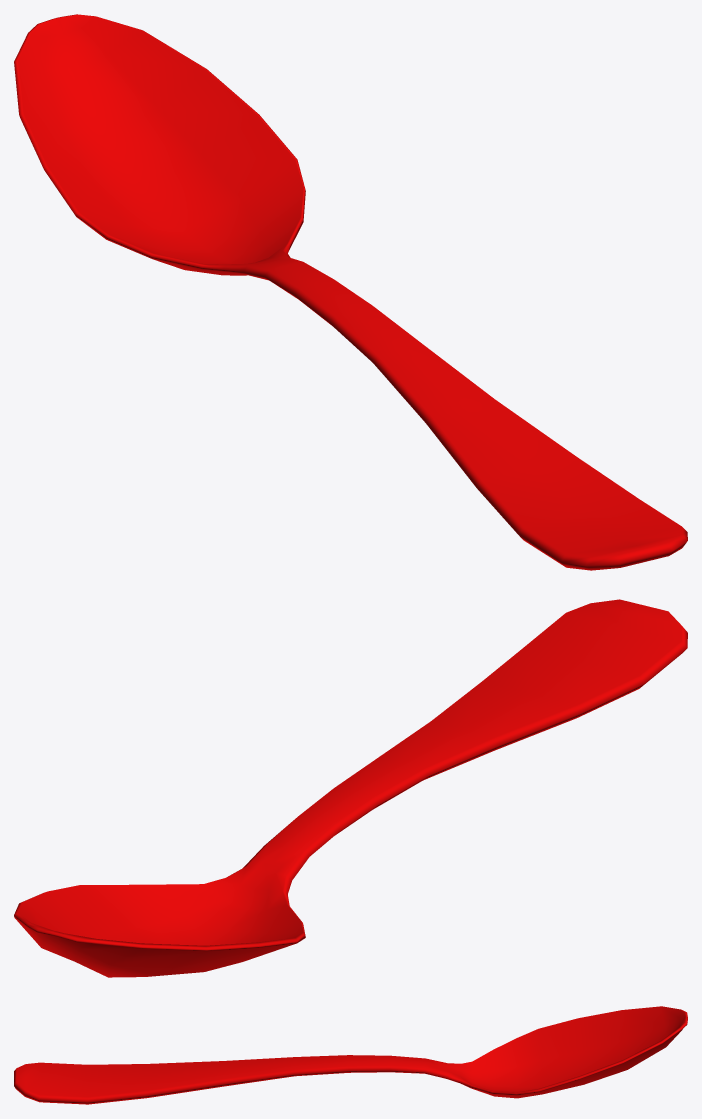
File: thorkea_spoons_grp.fbx
The picture shows the model from 3 angles, top to bottom: view 1: azimuth 30°, elevation 25°; view 2: azimuth 150°, elevation 25°; view 3: azimuth 270°, elevation 25°; orthographic projection. The views are drawn at different scales.
Parts seen in each view (by area): view 1: thorkea_spoon_ai2; view 2: thorkea_spoon_ai2; view 3: thorkea_spoon_ai2.
Boxes of the visible parts, x1,y1,x2,y2 form: thorkea_spoon_ai2: [14, 14, 687, 570]; thorkea_spoon_ai2: [14, 599, 687, 977]; thorkea_spoon_ai2: [14, 1006, 687, 1104].
Bounding box in the file's own units: 4.32 × 2.39 × 19.78.
